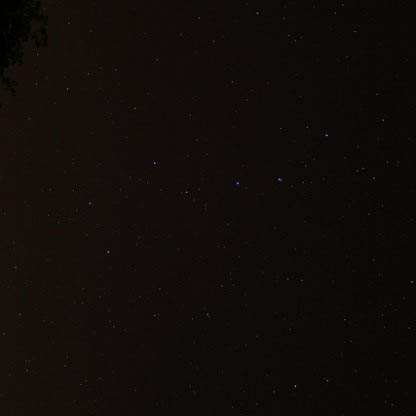Ursa Major: (222, 174, 247, 193), (267, 167, 287, 190), (150, 152, 169, 176), (99, 242, 118, 262), (83, 190, 101, 210), (318, 125, 335, 146), (182, 184, 196, 203)
